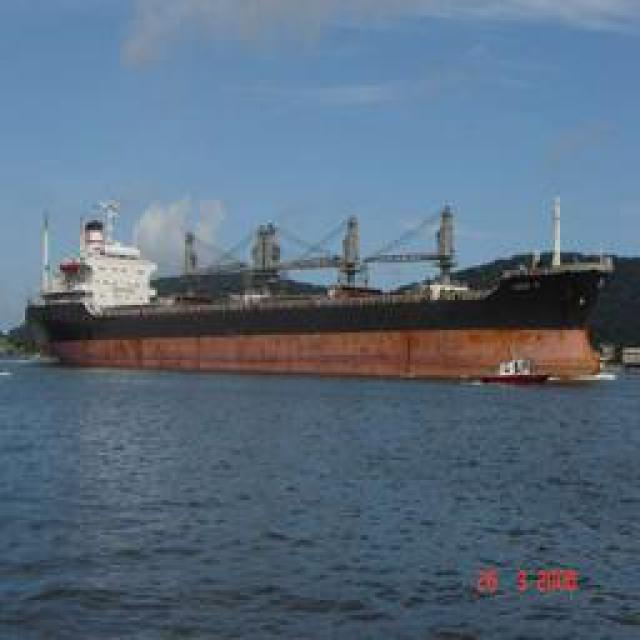Ship: (13, 195, 628, 388)
